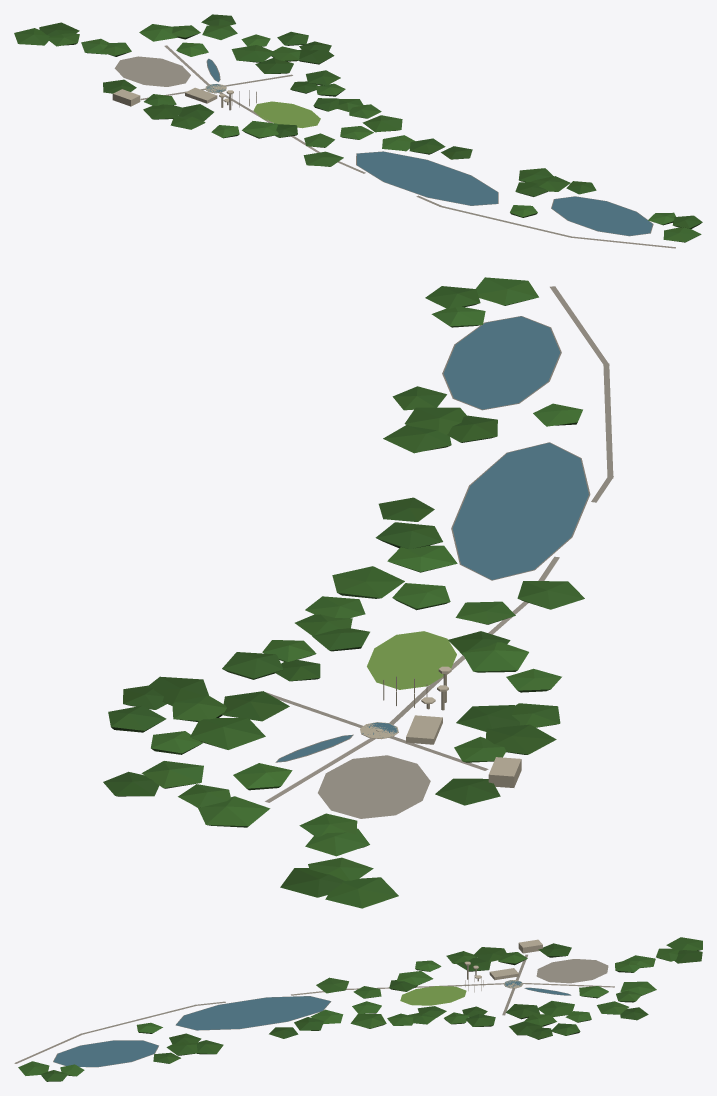
3 views of the same model, one above another, from view 1: azimuth 30°, elevation 25°; view 2: azimuth 150°, elevation 25°; view 3: azimuth 270°, elevation 25° (orthographic). The views are drawn at different scales.
Parts seen in each view (by area): view 1: flushing-meadows-lod2; view 2: flushing-meadows-lod2; view 3: flushing-meadows-lod2.
Boxes of the visible parts, x1,y1,x2,y2 form: flushing-meadows-lod2: (14,14,702,248); flushing-meadows-lod2: (103,277,613,908); flushing-meadows-lod2: (14,937,702,1081).
Bounding box in the file's own units: 2322 × 124 × 4675.
